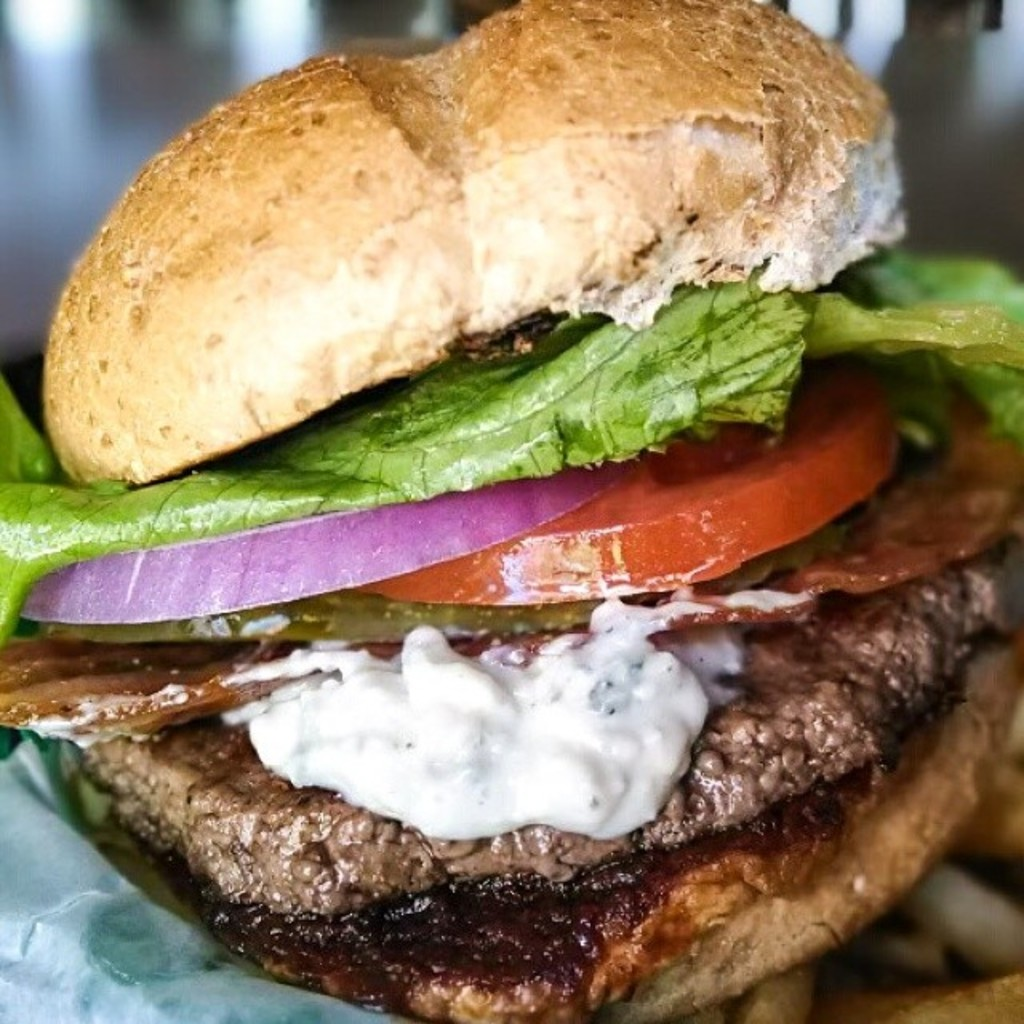Hamburger: (0, 0, 1022, 1022)
